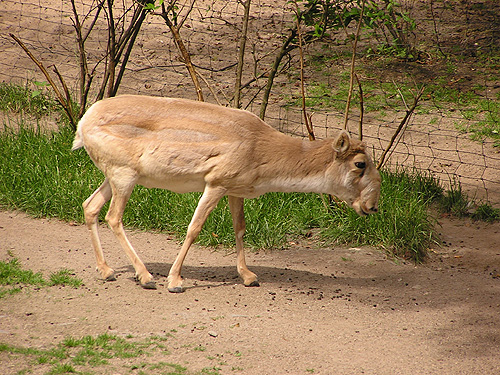saiga: (73, 94, 383, 294)
